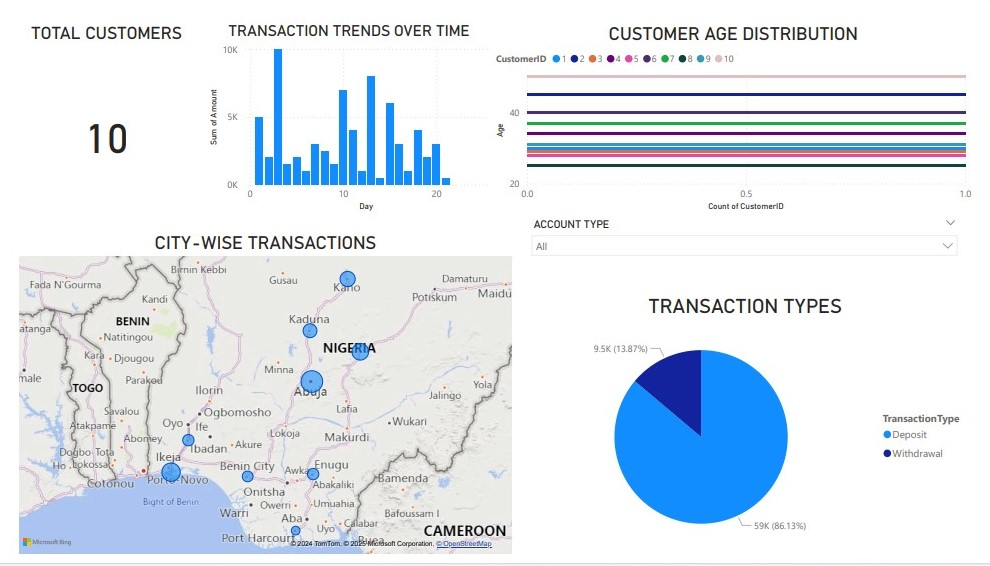

Layout of this report page (visuals, bound fields, positions):
{"tool":"powerbi","page":{"name":"Page 1","canvas":[1280,720],"ordinal":0},"visuals":[{"type":"card","title":"TOTAL CUSTOMERS","fields":{"Values":["CountNonNull(Customers.CustomerID)"]},"box":[9.2,15.3,242.5,264],"z":0},{"type":"lineClusteredColumnComboChart","title":"TRANSACTION TRENDS OVER TIME","fields":{"Category":["Transactions.TransactionDate.Variation.Date Hierarchy.Day"],"Y":["Sum(Transactions.Amount)"]},"box":[261.6,11.8,379.1,255.7],"z":1000},{"type":"barChart","title":"CUSTOMER AGE DISTRIBUTION","fields":{"Category":["Customers.Age"],"Series":["Customers.CustomerID"],"Y":["CountNonNull(Customers.CustomerID)"]},"box":[640.7,14.7,639.2,252.7],"z":2000},{"type":"map","title":"CITY-WISE TRANSACTIONS","fields":{"Category":["Customers.City"],"Size":["Sum(Transactions.Amount)"]},"box":[10.3,290.9,661.2,429.1],"z":3000},{"type":"pieChart","title":"TRANSACTION TYPES","fields":{"Category":["Transactions.TransactionType"],"Y":["Sum(Transactions.Amount)"]},"box":[671.5,373.2,608.3,346.8],"z":4000},{"type":"slicer","fields":{"Values":["Customers.AccountType"]},"box":[683.3,267.4,583.3,86.7],"z":5000}]}

Visuals, with their boxes in screenshot pixels (x1, y1, x2, y2), scaled from the page's 1280x720 canvas onto the 990x566 screenshot:
"TOTAL CUSTOMERS" card: {"left": 7, "top": 12, "right": 195, "bottom": 220}
"TRANSACTION TRENDS OVER TIME" lineClusteredColumnComboChart: {"left": 202, "top": 9, "right": 496, "bottom": 210}
"CUSTOMER AGE DISTRIBUTION" barChart: {"left": 496, "top": 12, "right": 989, "bottom": 210}
"CITY-WISE TRANSACTIONS" map: {"left": 8, "top": 229, "right": 519, "bottom": 565}
"TRANSACTION TYPES" pieChart: {"left": 519, "top": 293, "right": 989, "bottom": 565}
slicer - Customers.AccountType: {"left": 528, "top": 210, "right": 980, "bottom": 278}
